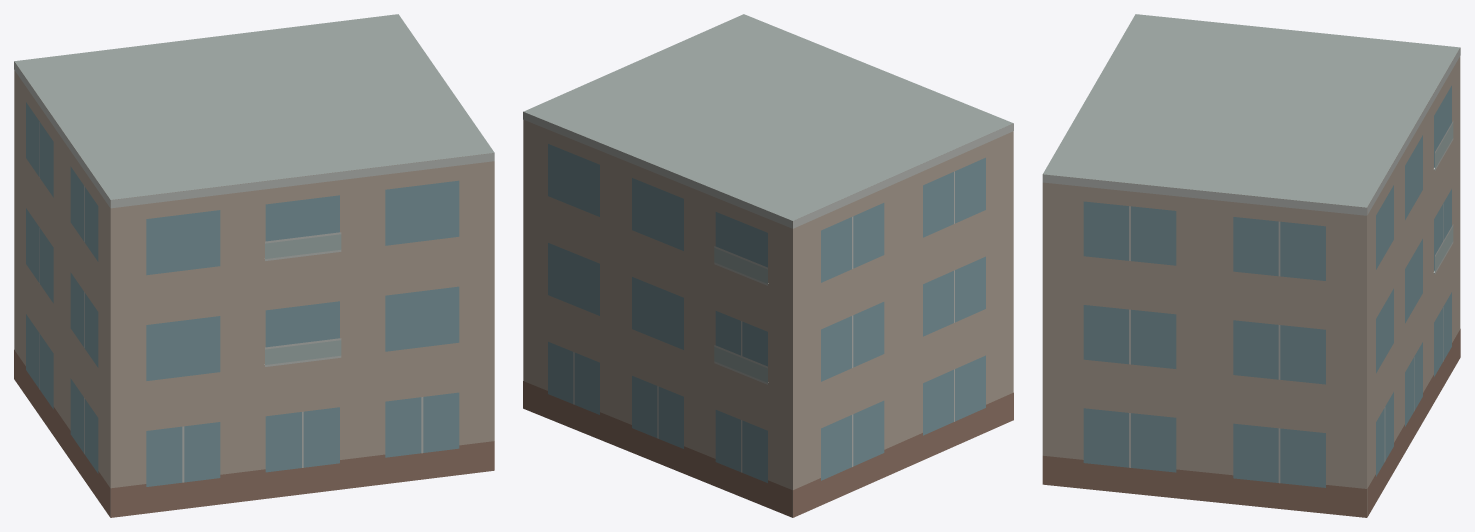
Rendered from survey-upis-32808646.glb.
3 views of the same model, side by side, from view 1: azimuth 30°, elevation 25°; view 2: azimuth 150°, elevation 25°; view 3: azimuth 270°, elevation 25° (orthographic). The views are drawn at different scales.
Visible parts, largest first — view 1: survey-upis-32808646.tmp; view 2: survey-upis-32808646.tmp; view 3: survey-upis-32808646.tmp.
Boxes of the visible parts, x1,y1,x2,y2 form: survey-upis-32808646.tmp: (14,14,494,517); survey-upis-32808646.tmp: (523,14,1013,517); survey-upis-32808646.tmp: (1042,14,1460,517).
Size of the model in its own units: 12.39 by 9.25 by 11.3.
